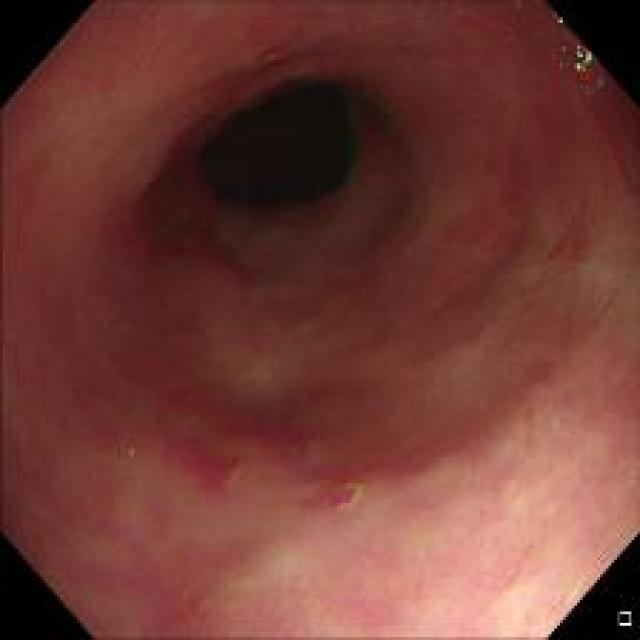color misalignment: (548, 10, 602, 96)
contrast: (164, 45, 371, 251)
